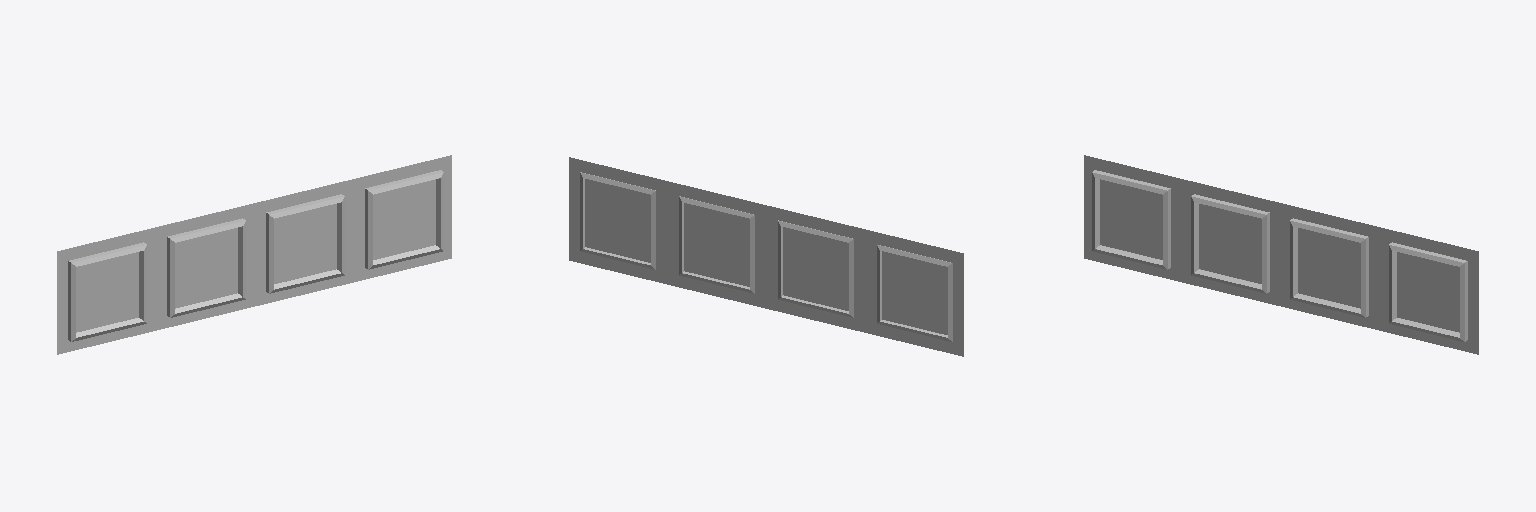
Rendered from v2ToolUI.obj.
The picture shows the model from 3 angles: view 1: azimuth 30°, elevation 25°; view 2: azimuth 150°, elevation 25°; view 3: azimuth 330°, elevation 25°; orthographic projection.
Parts seen in each view (by area): view 1: UI1, Invent4, Invent1, Invent3, Invent2; view 2: UI1, Invent4, Invent1, Invent3, Invent2; view 3: UI1, Invent1, Invent4, Invent2, Invent3.
Boxes of the visible parts, x1,y1,x2,y2 form: UI1: [57, 155, 451, 354]; Invent4: [365, 170, 443, 269]; Invent1: [68, 242, 146, 341]; Invent3: [266, 194, 344, 293]; Invent2: [167, 218, 245, 317]; UI1: [569, 157, 963, 356]; Invent4: [580, 172, 655, 269]; Invent1: [877, 245, 952, 341]; Invent3: [679, 196, 754, 293]; Invent2: [778, 220, 853, 317]; UI1: [1084, 155, 1478, 354]; Invent1: [1092, 170, 1170, 269]; Invent4: [1389, 242, 1467, 341]; Invent2: [1191, 194, 1269, 293]; Invent3: [1290, 218, 1368, 317].
Size of the model in its own units: 4 by 1 by 0.0951.